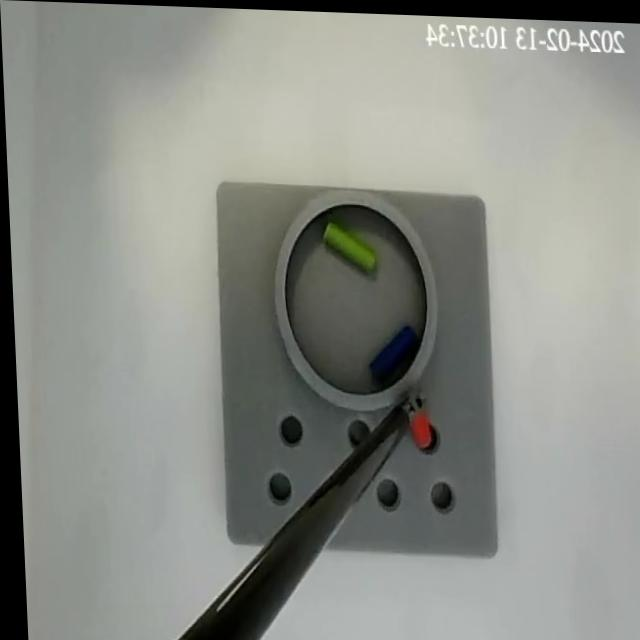EmptyHole: (421, 470, 455, 518), (406, 411, 440, 456), (338, 409, 371, 451), (272, 408, 303, 450), (259, 465, 291, 505), (365, 473, 398, 508)
